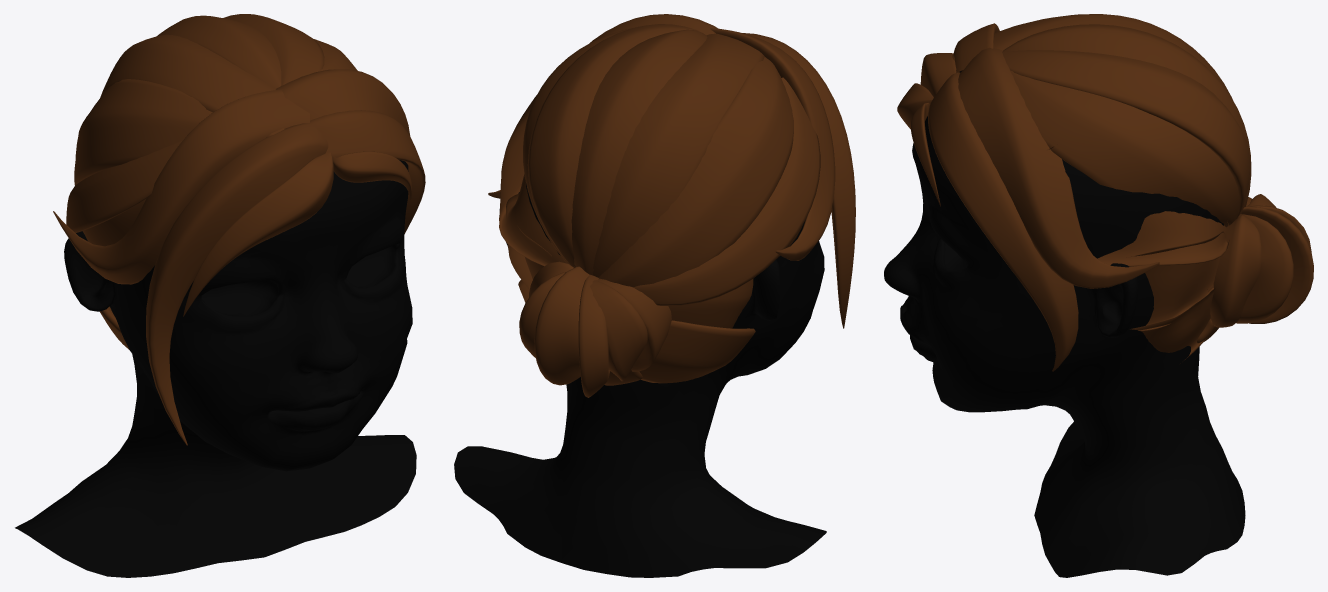
Rendered from female_hair_bun.glb.
The picture shows the model from 3 angles, left to right: view 1: azimuth 30°, elevation 25°; view 2: azimuth 150°, elevation 25°; view 3: azimuth 270°, elevation 25°; orthographic projection. The views are drawn at different scales.
Parts seen in each view (by area): view 1: Body, Hair; view 2: Hair, Body; view 3: Hair, Body.
Boxes of the visible parts, x1,y1,x2,y2 form: Body: [15, 160, 416, 577]; Hair: [53, 14, 425, 445]; Hair: [488, 14, 855, 397]; Body: [454, 183, 826, 577]; Hair: [897, 14, 1313, 371]; Body: [884, 70, 1245, 577].
Bounding box in the file's own units: 865 × 1088 × 871.
